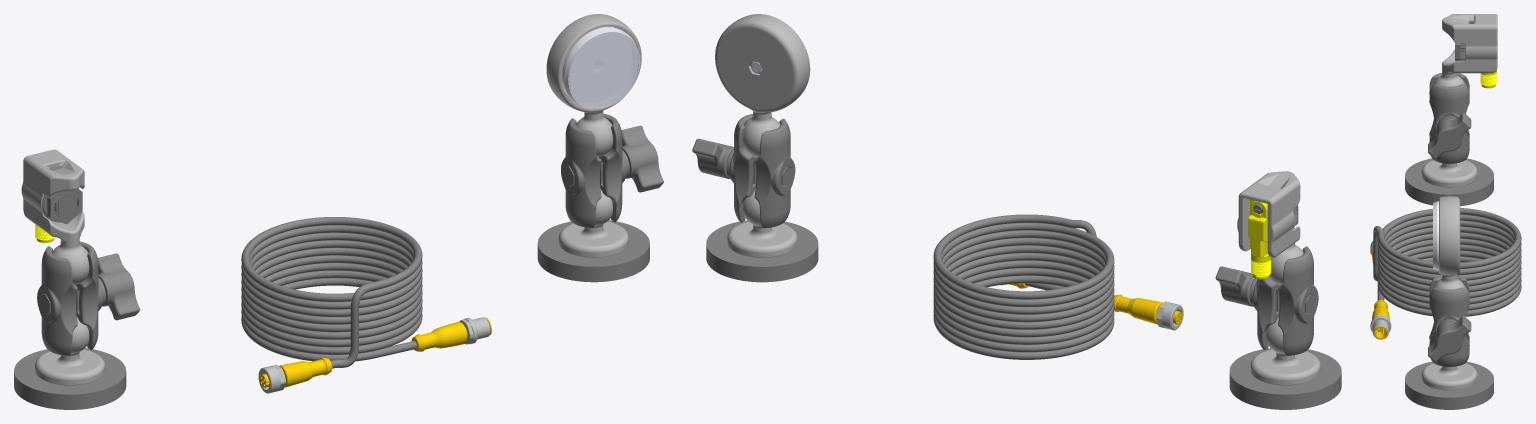
Rendered from AWR-1SENSOR-DOOR1.glb.
3 views of the same model, side by side, from view 1: azimuth 30°, elevation 25°; view 2: azimuth 150°, elevation 25°; view 3: azimuth 270°, elevation 25° (orthographic). The views are drawn at different scales.
Parts seen in each view (by area): view 1: AWR-00021-1, RAP-B-201U-A_CLAMP_HALF (×4), MAT-D6608M8NPING (×2), AWR-00015, AWR-00019 (×2), AWR-00018, RAP-B-201U-A_KNOB (×2), AWR-00020, AWR-00014; view 2: AWR-00021-1, RAP-B-201U-A_CLAMP_HALF (×4), AWR-00020, MAT-D6608M8NPING (×2), AWR-00019 (×2), AWR-00018, RAP-B-201U-A_KNOB (×2), AWR-00014; view 3: AWR-00021-1, MAT-D6608M8NPING (×2), RAP-B-201U-A_CLAMP_HALF (×4), AWR-00018, AWR-00019 (×2), RAP-B-201U-A_KNOB (×2), AWR-00020, AWR-00014, AWR-00015.
Boxes of the visible parts, box(x1,y1,x2,y2) form: AWR-00021-1: box(241, 217, 491, 393); RAP-B-201U-A_CLAMP_HALF (×4): box(37, 113, 626, 355); MAT-D6608M8NPING (×2): box(14, 220, 649, 409); AWR-00015: box(562, 26, 640, 109); AWR-00019 (×2): box(35, 190, 628, 385); AWR-00018: box(21, 149, 89, 284); RAP-B-201U-A_KNOB (×2): box(98, 125, 663, 320); AWR-00020: box(546, 14, 641, 156); AWR-00014: box(35, 166, 82, 242); AWR-00021-1: box(933, 214, 1183, 359); RAP-B-201U-A_CLAMP_HALF (×4): box(729, 114, 1318, 355); AWR-00020: box(715, 14, 810, 157); MAT-D6608M8NPING (×2): box(706, 220, 1341, 409); AWR-00019 (×2): box(727, 190, 1320, 385); AWR-00018: box(1237, 171, 1303, 284); RAP-B-201U-A_KNOB (×2): box(692, 138, 1255, 306); AWR-00014: box(1248, 199, 1298, 279); AWR-00021-1: box(1370, 208, 1521, 339); MAT-D6608M8NPING (×2): box(1405, 158, 1493, 409); RAP-B-201U-A_CLAMP_HALF (×4): box(1429, 73, 1469, 366); AWR-00018: box(1433, 14, 1497, 86); AWR-00019 (×2): box(1421, 160, 1477, 390); RAP-B-201U-A_KNOB (×2): box(1428, 112, 1471, 362); AWR-00020: box(1433, 196, 1465, 289); AWR-00014: box(1455, 21, 1496, 88); AWR-00015: box(1433, 201, 1438, 270).
Bounding box in the file's own units: 0.4276 × 0.1639 × 0.1118.
